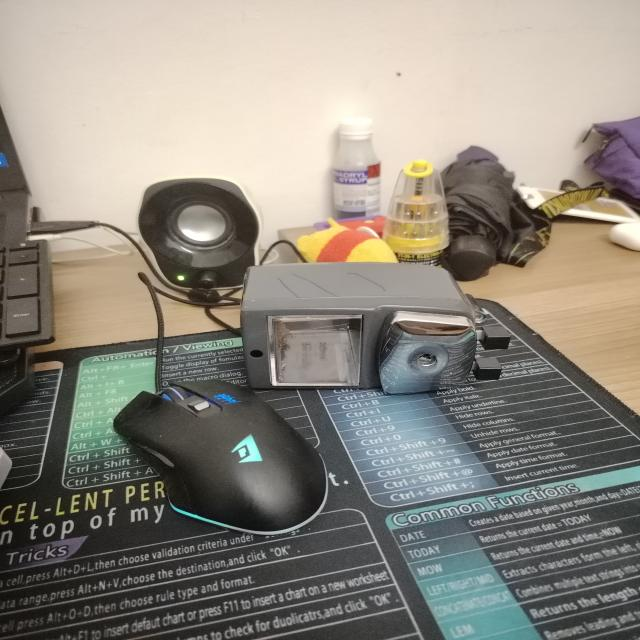sharpener: (240, 262, 511, 394)
